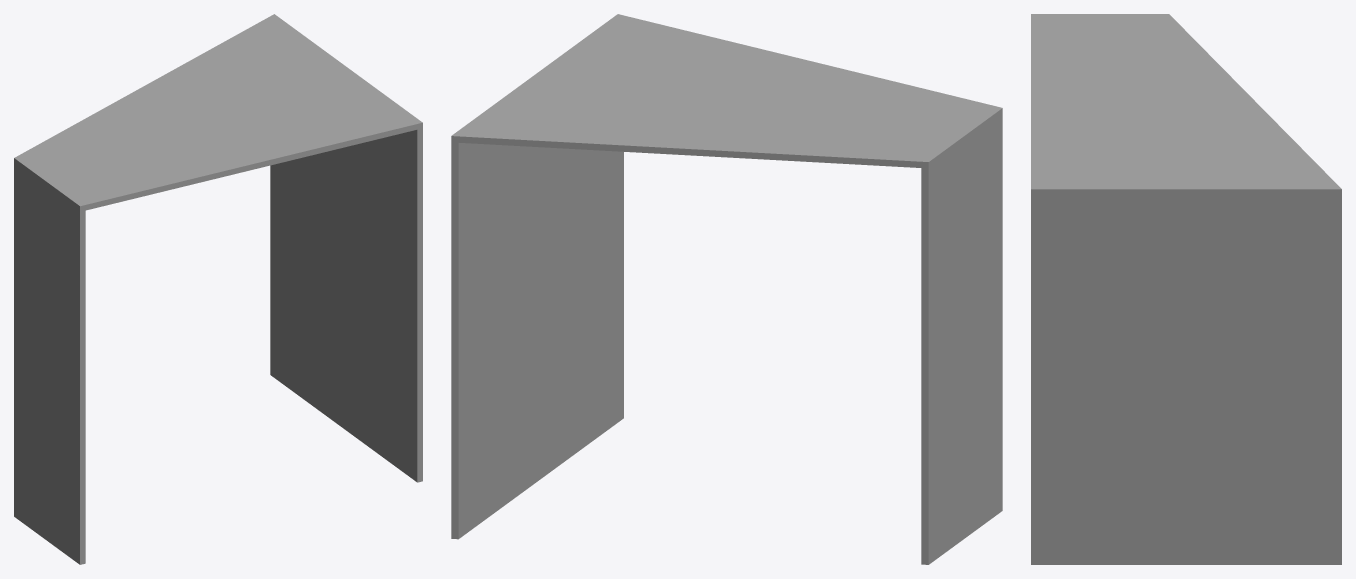
File: meuble_68fa355890a7c.glb
3 renders of one model, left to right at view 1: azimuth 30°, elevation 25°; view 2: azimuth 150°, elevation 25°; view 3: azimuth 270°, elevation 25°, orthographic. The views are drawn at different scales.
Parts seen in each view (by area): view 1: world; view 2: world; view 3: world.
Part boxes in pixels (<box>): world: <box>14,14,422,564</box>; world: <box>451,14,1002,564</box>; world: <box>1031,14,1341,564</box>.
Bounding box in the file's own units: 1.2 × 1.2 × 0.9.
1 material, 1 textured.
